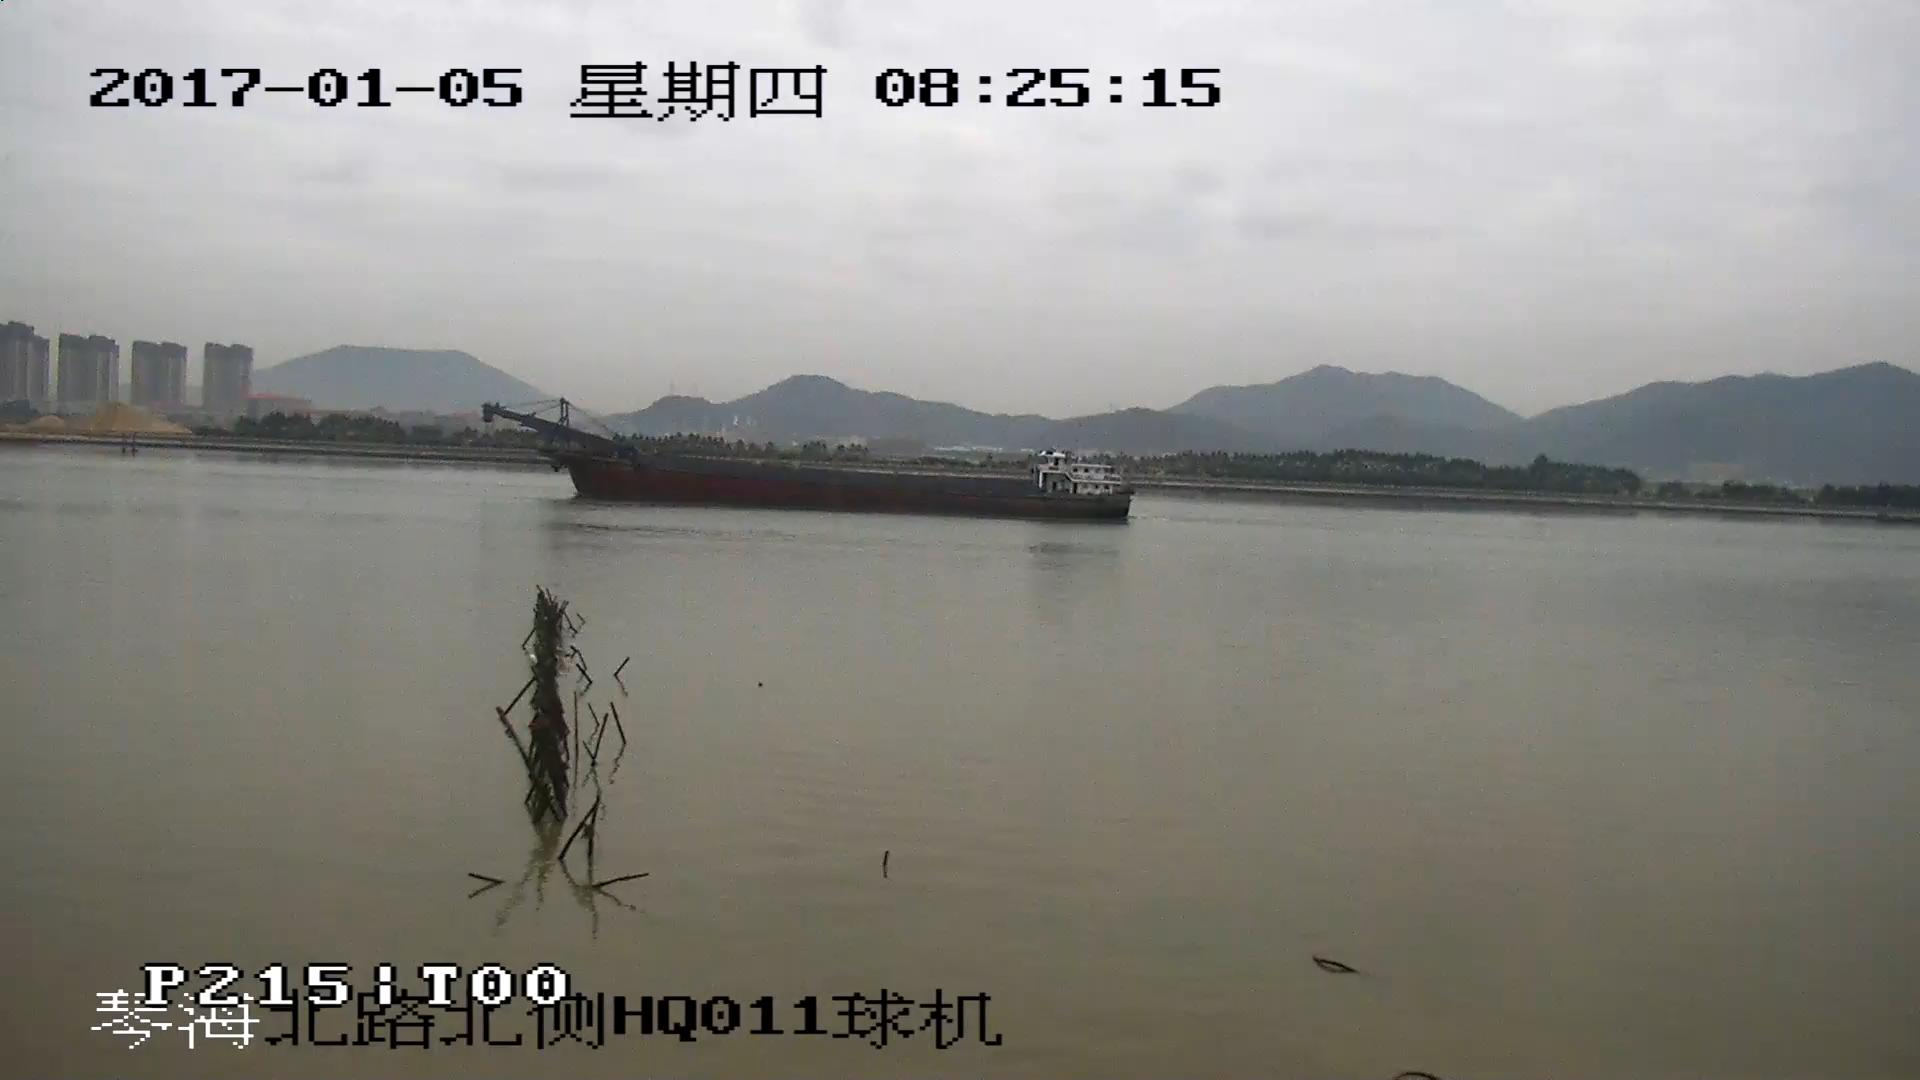bulk cargo carrier: (488, 402, 1131, 521)
